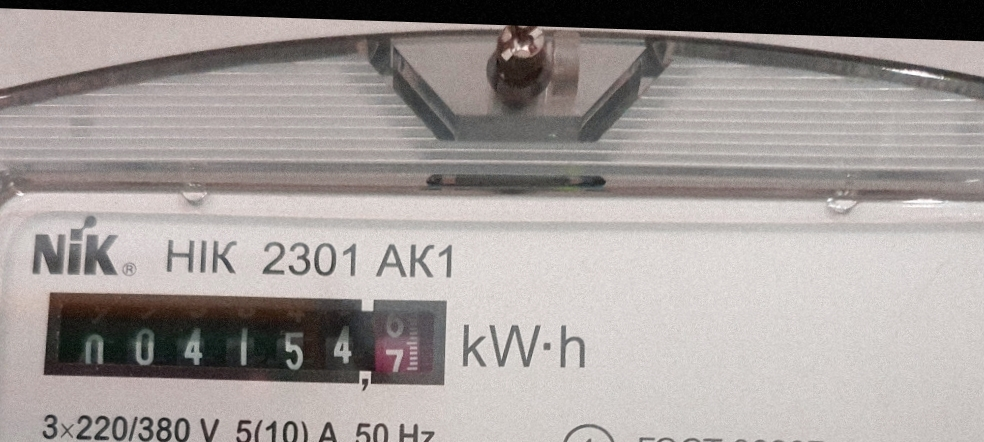0: (131, 325, 155, 367), (81, 329, 105, 364)
1: (235, 325, 250, 367)
4: (180, 325, 204, 367), (330, 321, 352, 365)
5: (280, 326, 306, 371)
6: (382, 308, 406, 339)
7: (382, 345, 403, 374)
screen: (27, 272, 464, 402)
